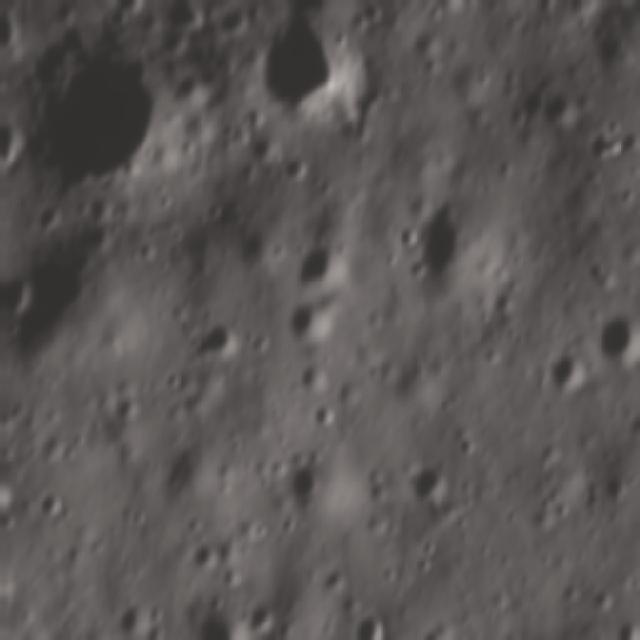crater: (26, 35, 172, 192), (258, 17, 368, 117), (284, 241, 348, 288), (188, 316, 234, 362), (575, 122, 627, 161), (588, 314, 632, 360), (285, 294, 324, 344), (343, 605, 391, 638), (406, 466, 443, 502), (284, 459, 316, 496), (31, 488, 64, 520), (307, 396, 341, 426), (184, 534, 211, 571), (246, 606, 274, 634), (453, 430, 472, 459)
